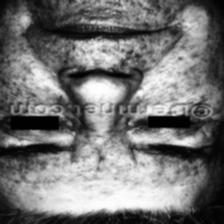Non-Cancerous Skin Condition: (0, 0, 224, 98), (0, 116, 206, 186)
